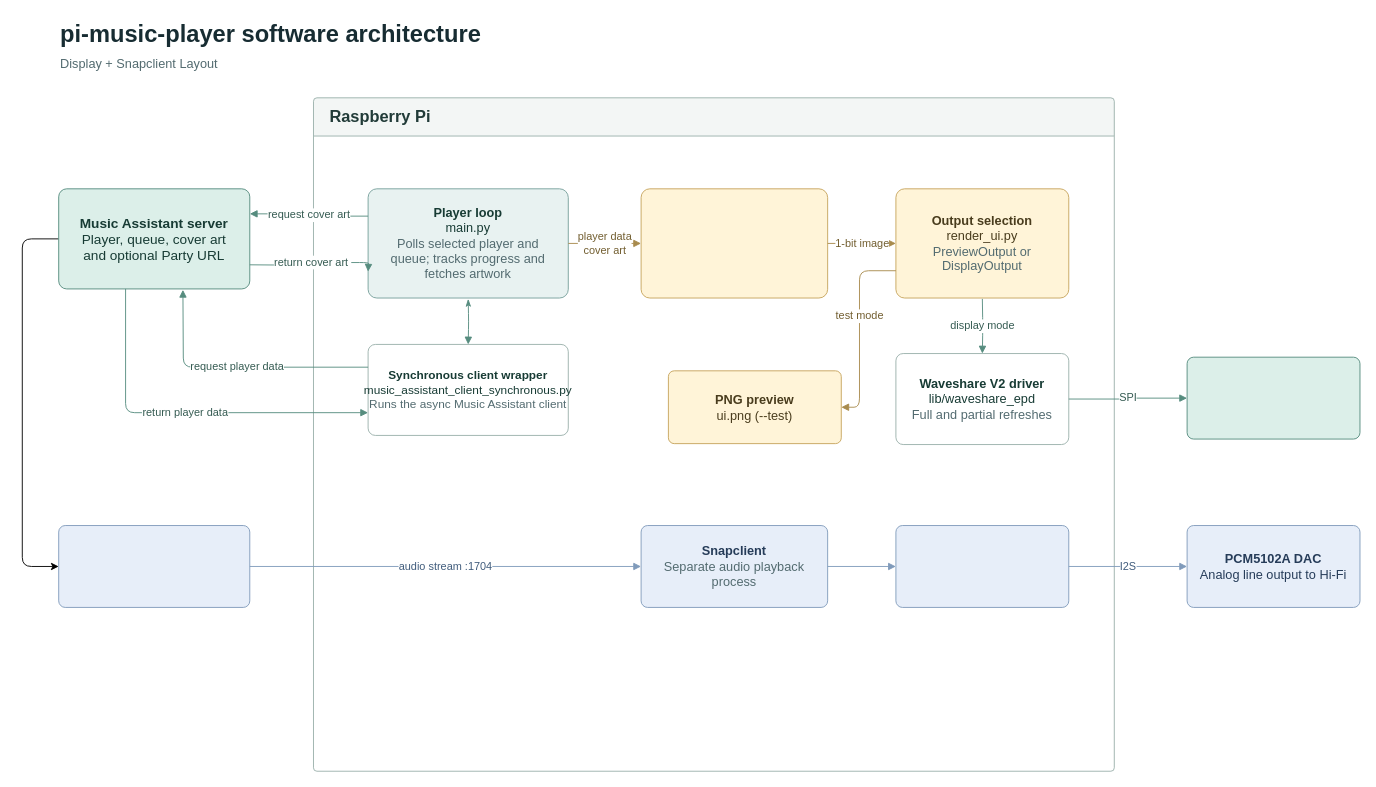
The diagram is 1376 pixels wide and 787 high, and some of its shapes have lost their labels. Here are the shapes that lost their labels. From the top down, the centre of each, then its label:
At point (734, 243): "UI renderer generate_ui.py Pillow image, text, artwork and optional QR code".
At point (1273, 397): "2.9-inch e-paper 296 x 128 monochrome".
At point (154, 566): "Snapcast server Audio stream".
At point (982, 566): "ALSA / I2S Raspberry Pi audio output".
